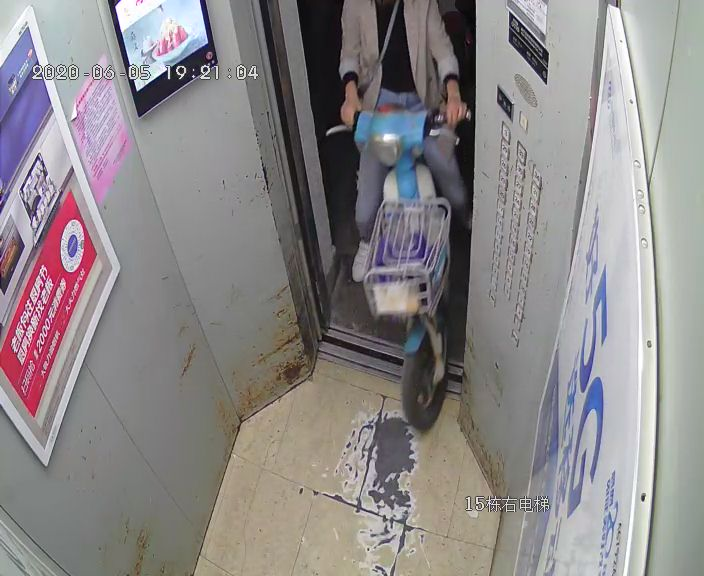Electric-bicycle: (324, 106, 472, 432)
